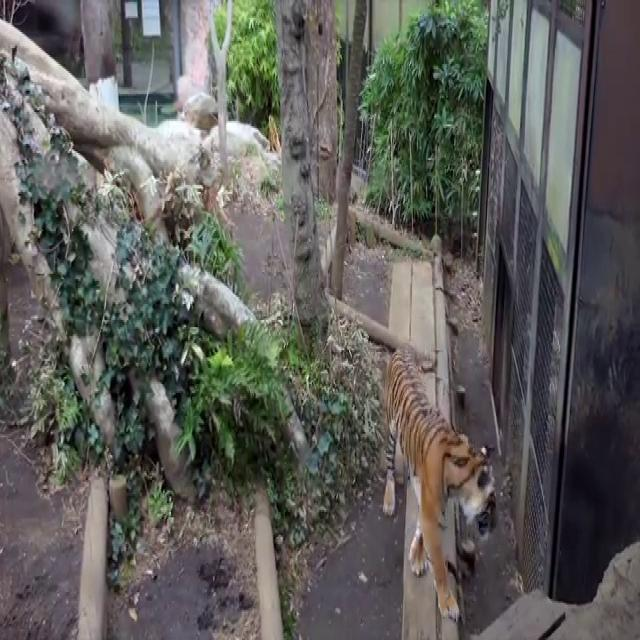tiger: (382, 342, 499, 626)
